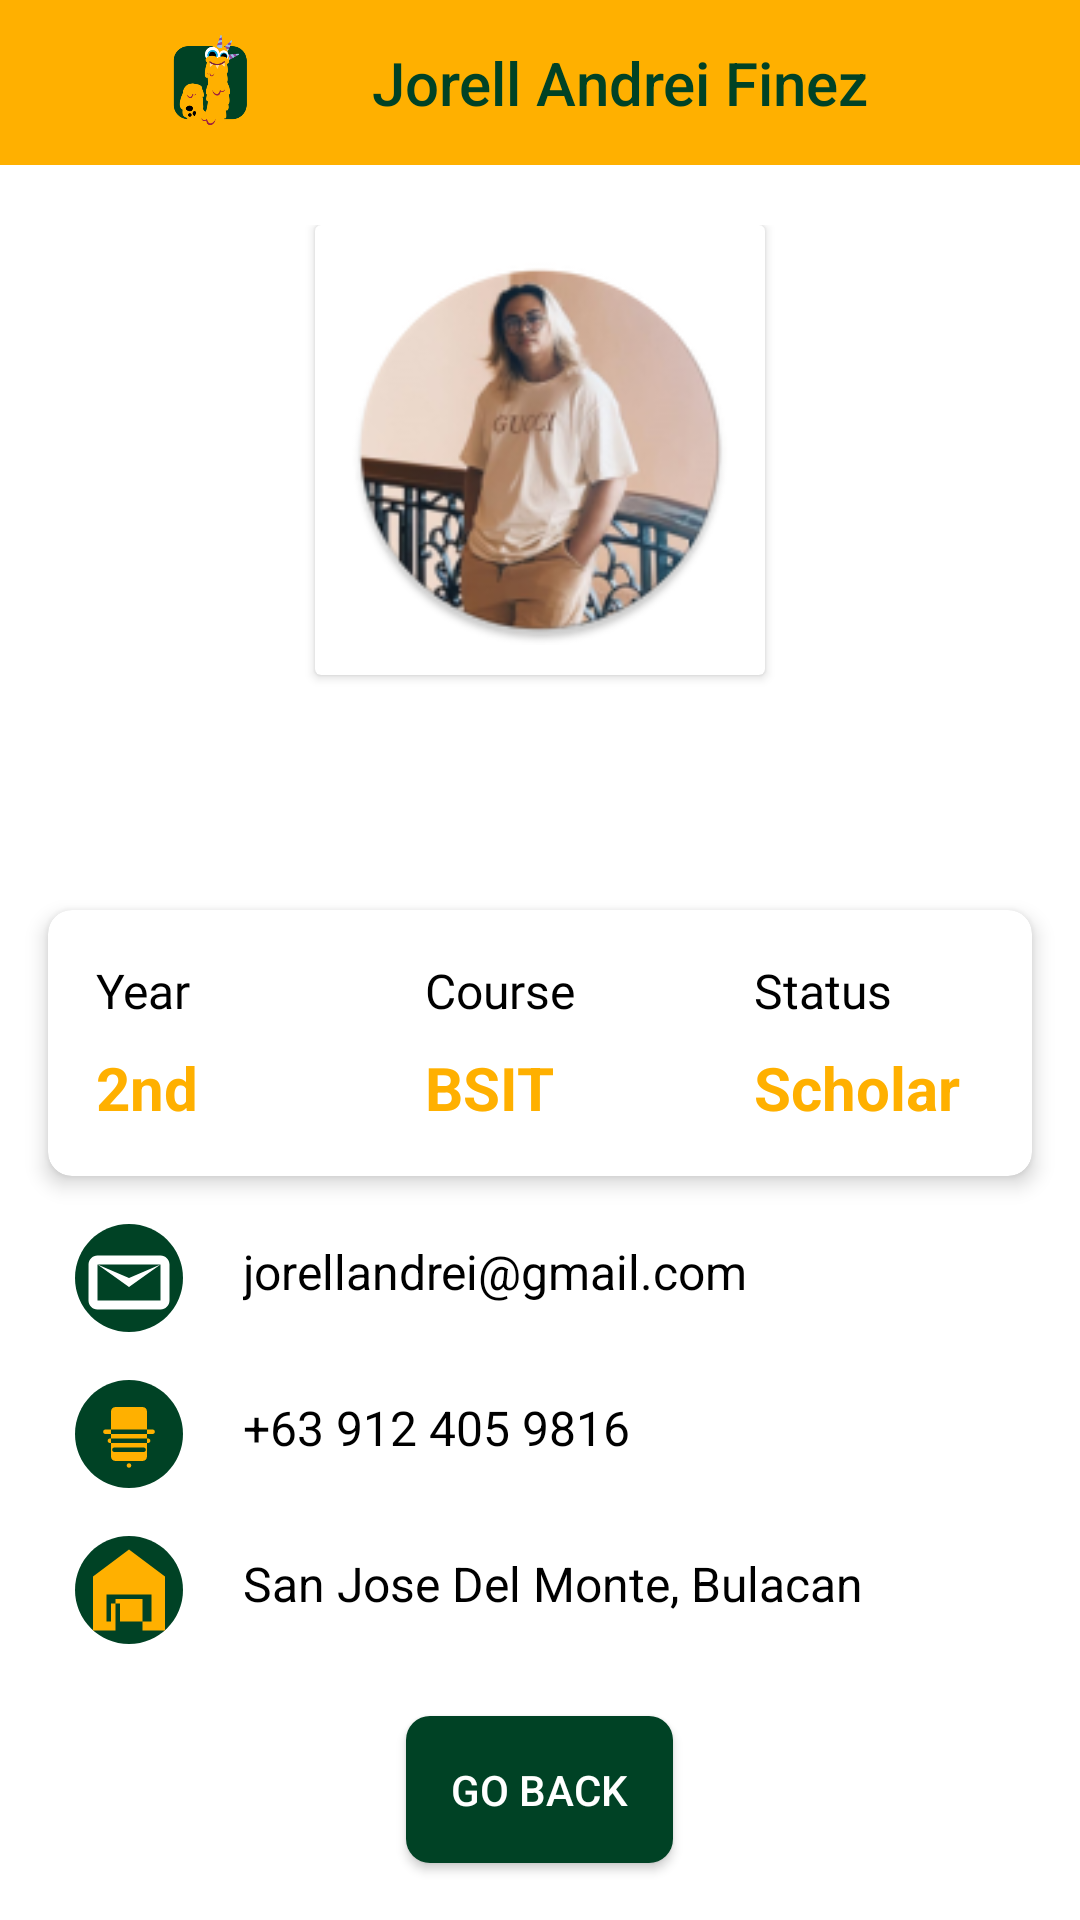

Screen size 1080x1920. Icon name, then its box in pixels as (x1, y1, x2, y2):
email: (75, 1224, 183, 1332)
homeaddress: (75, 1536, 183, 1644)
phone: (75, 1380, 183, 1488)
